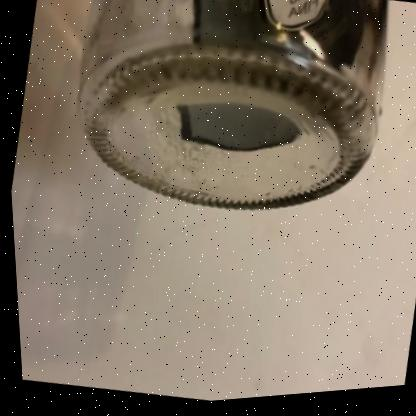Glass: (76, 0, 385, 213)
